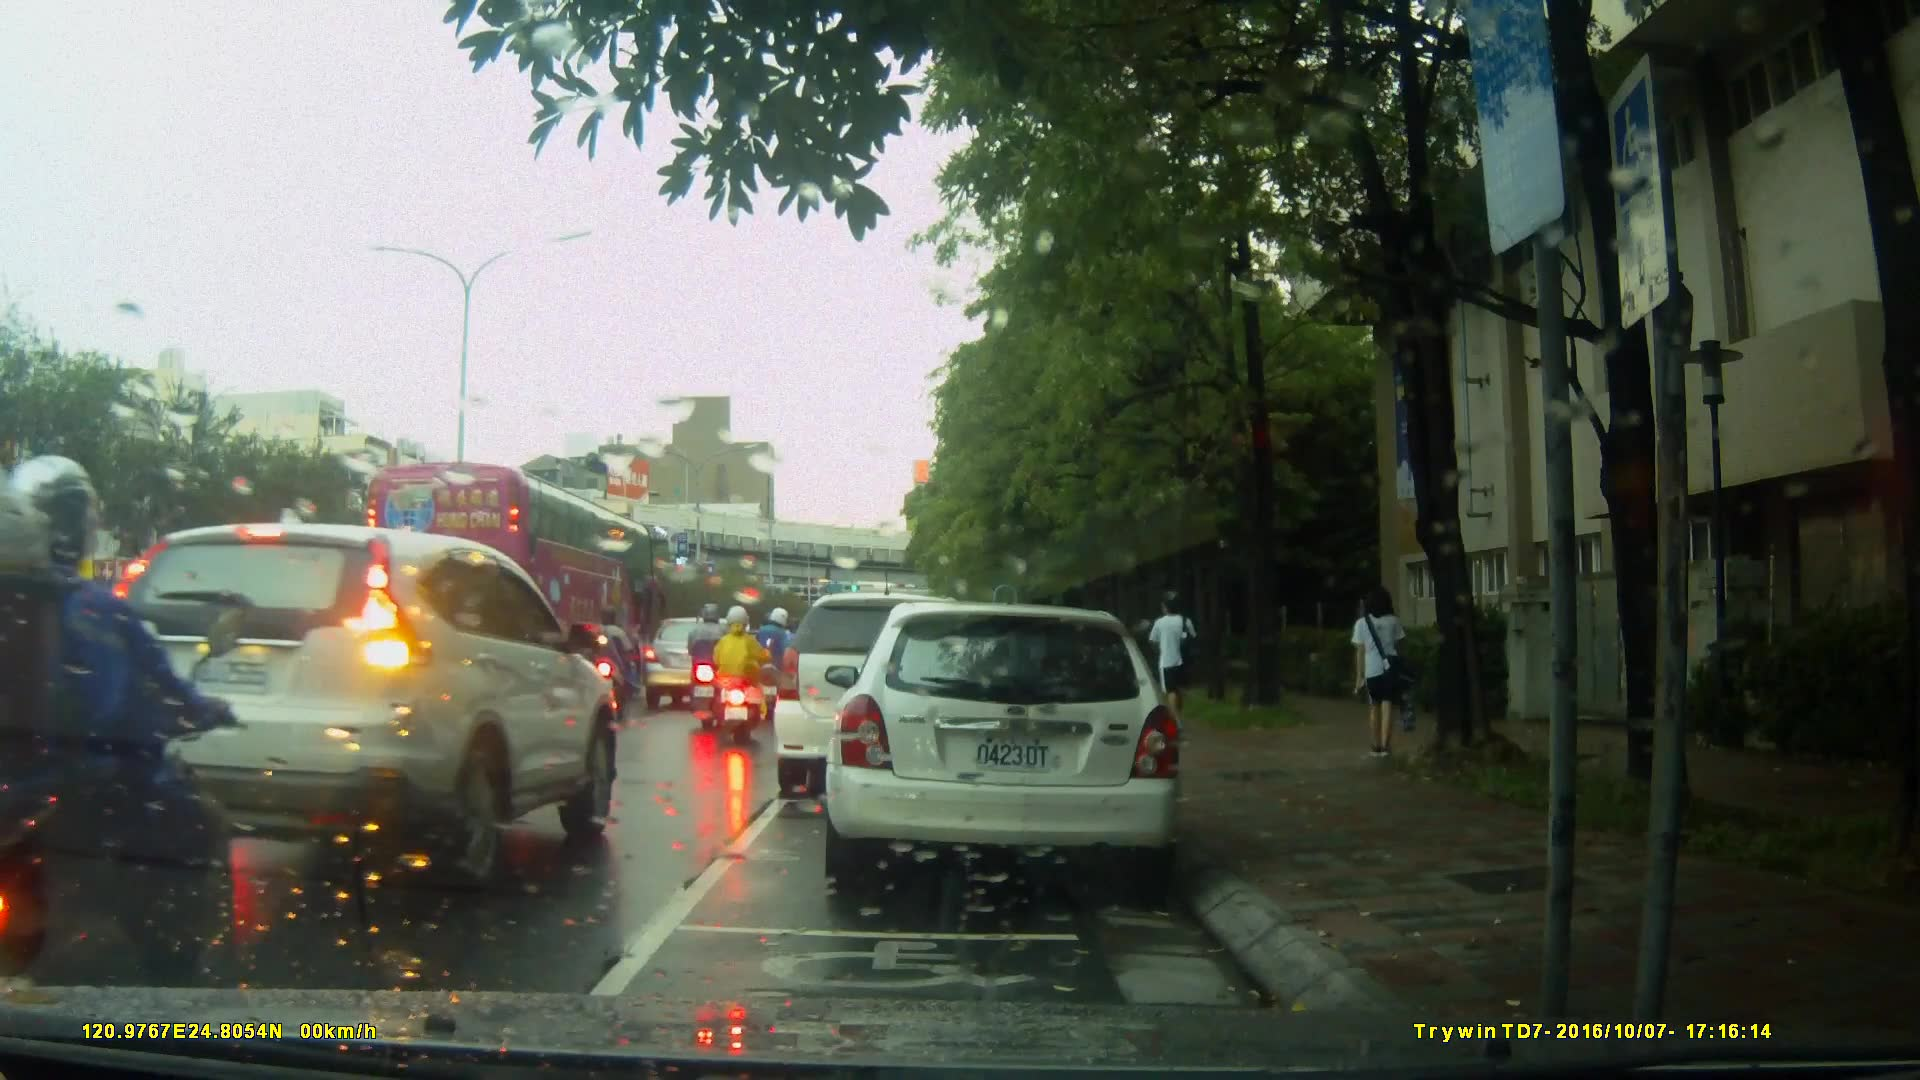pedestrian: (1335, 582, 1420, 779), (1148, 589, 1199, 728)
rider: (1, 446, 246, 1059), (708, 604, 763, 748), (579, 605, 645, 710), (680, 597, 733, 725), (754, 605, 801, 713)
vehicle: (73, 517, 615, 915), (835, 594, 1194, 898), (352, 462, 667, 688), (776, 590, 1026, 784), (645, 616, 758, 705)
